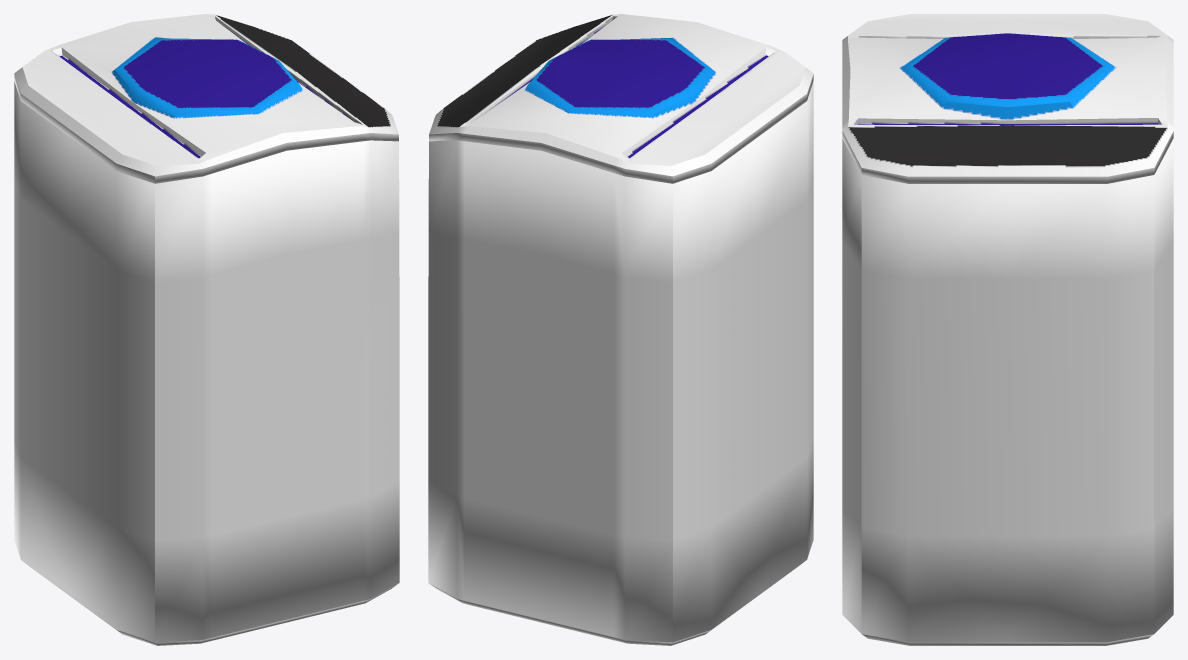
Rendered from Senttakki.fbx.
The picture shows the model from 3 angles, left to right: view 1: azimuth 30°, elevation 25°; view 2: azimuth 150°, elevation 25°; view 3: azimuth 270°, elevation 25°; orthographic projection. The views are drawn at different scales.
Visible parts, largest first — view 1: polySurface19, polySurface17, polySurface18; view 2: polySurface19, polySurface17, polySurface18; view 3: polySurface19, polySurface17, polySurface18.
Part boxes in pixels (x1,y1,x2,y2): polySurface19: (14,81,399,642); polySurface17: (14,14,398,183); polySurface18: (24,562,398,645); polySurface19: (428,81,813,642); polySurface17: (429,14,813,183); polySurface18: (429,562,803,645); polySurface19: (842,139,1173,642); polySurface17: (842,14,1173,183); polySurface18: (862,634,1153,645).
Bounding box in the file's own units: 500 × 860 × 500.
